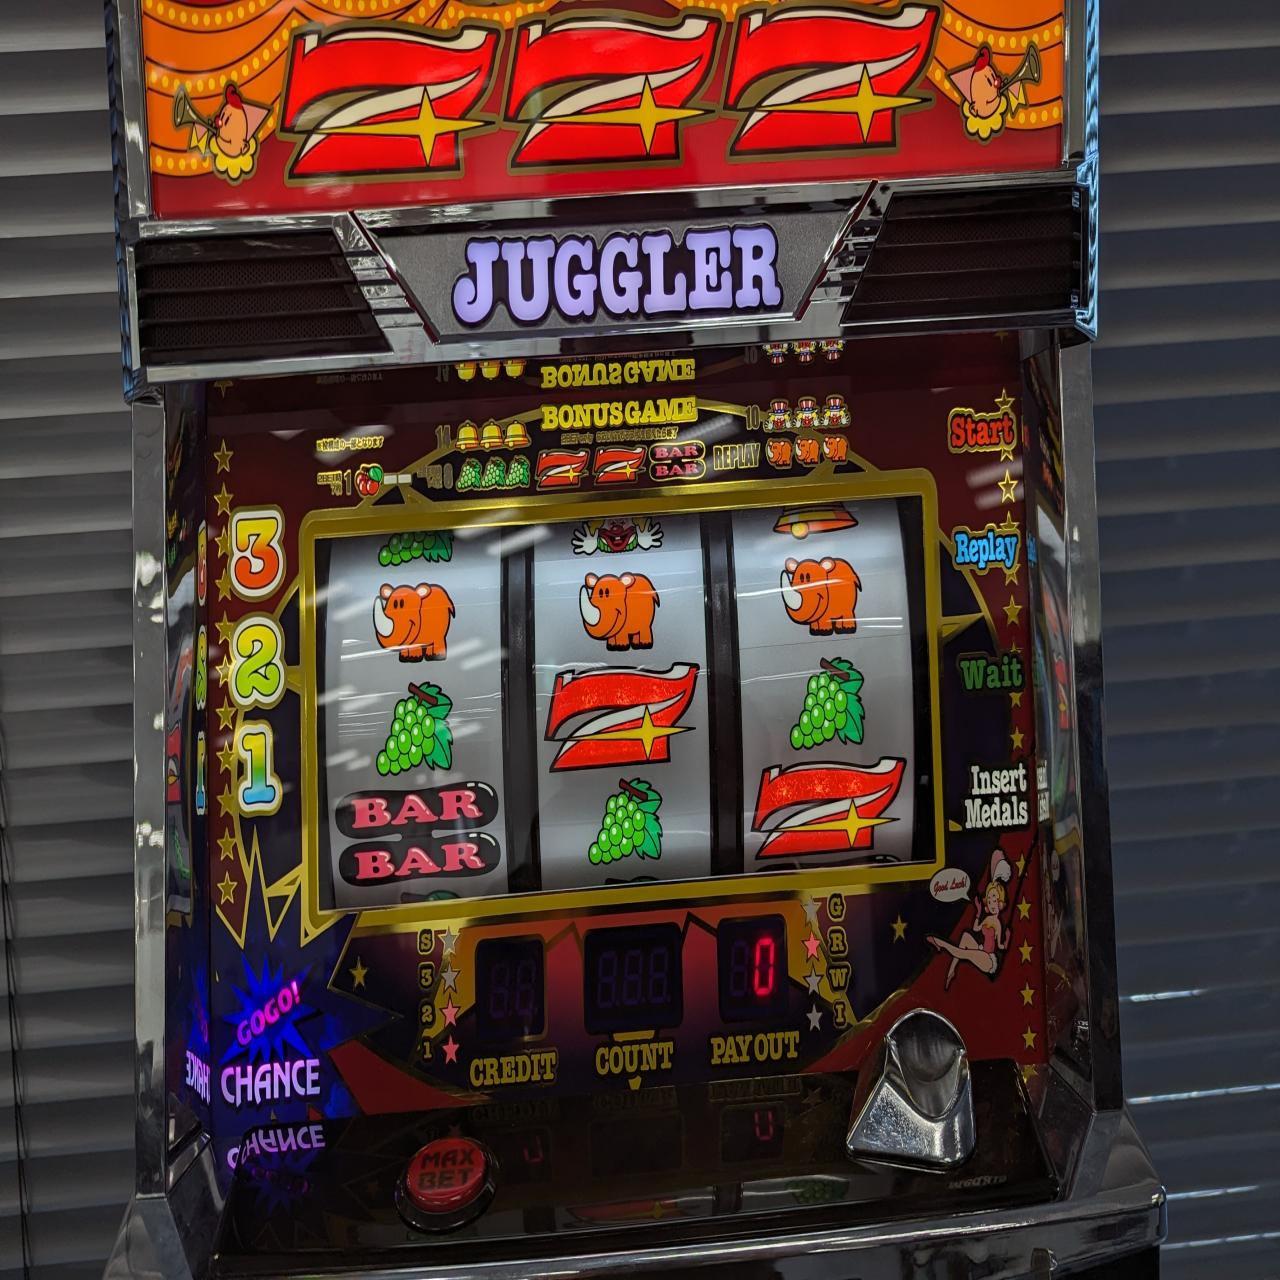7: (537, 660, 706, 783), (751, 755, 911, 863)
Display: (307, 491, 933, 900)
bar: (331, 782, 506, 897)
grape: (568, 784, 679, 876), (788, 640, 872, 756), (375, 683, 458, 782)
rhino: (367, 567, 462, 675), (574, 561, 665, 659), (778, 553, 869, 646)
